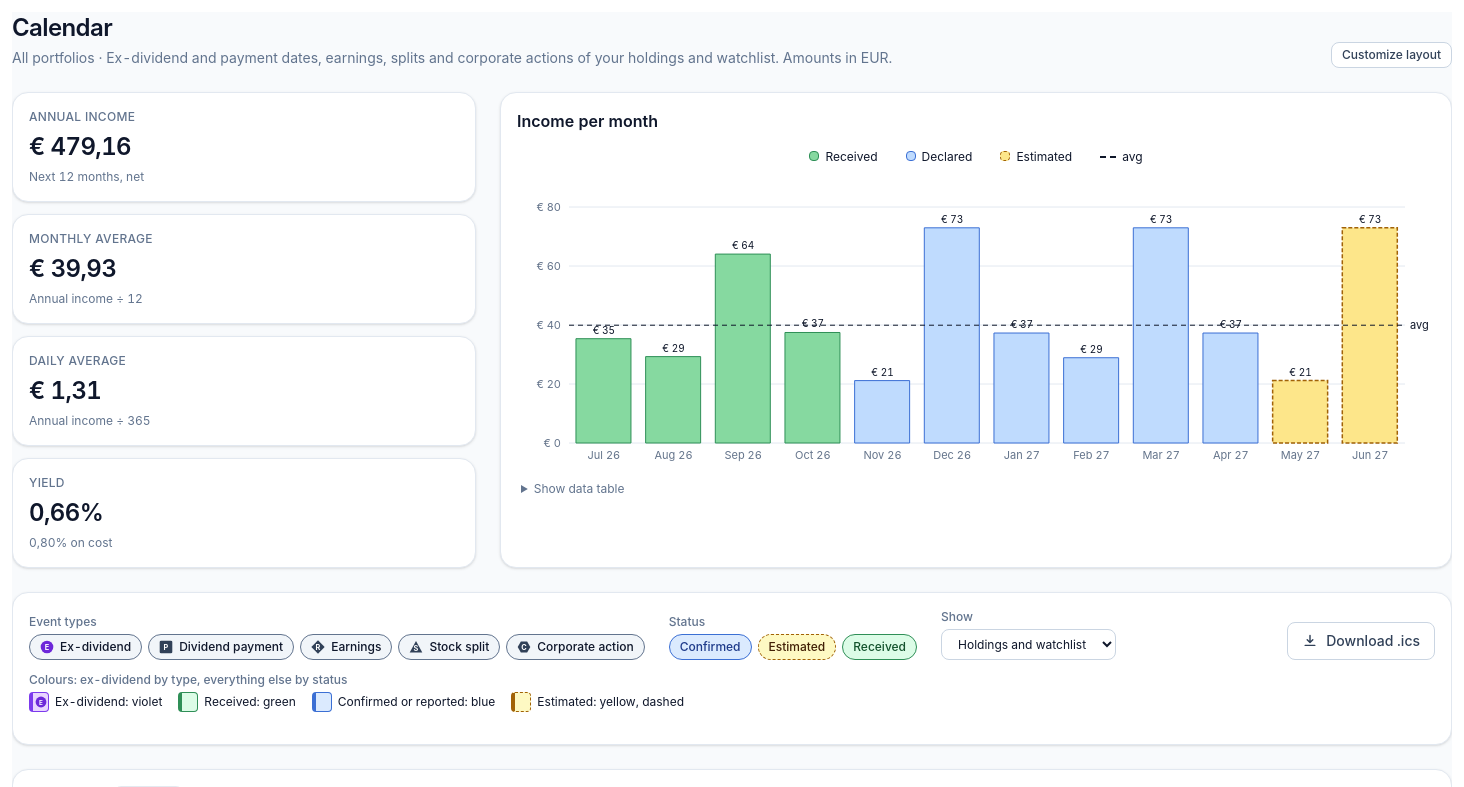
Test: CalendarPage › explains an empty selection
Click the checkbox labelled "Ex-dividend" at (86, 647), box 29,634 -> 142,660
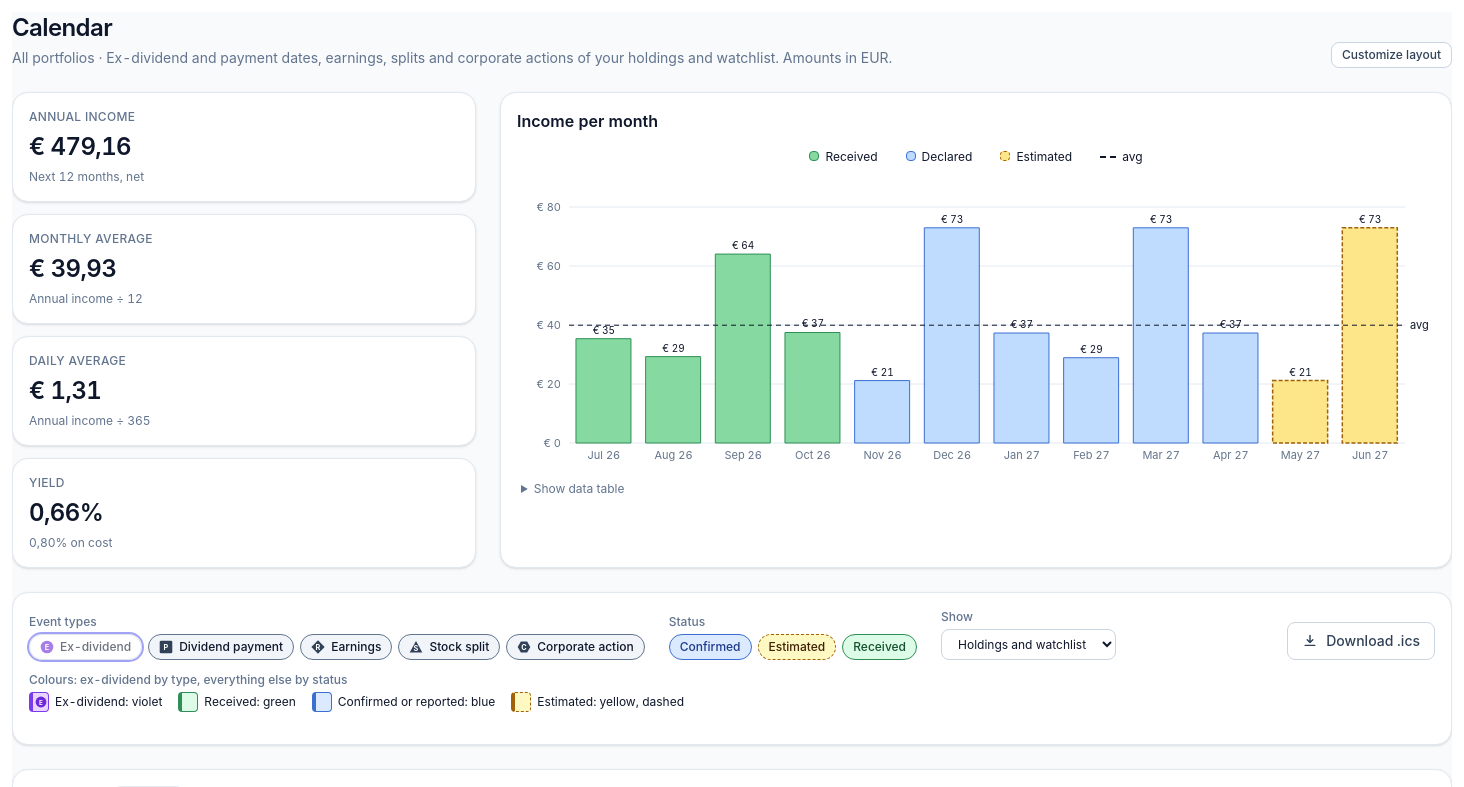
Click the checkbox labelled "Dividend payment" at (221, 647), box 148,634 -> 294,660
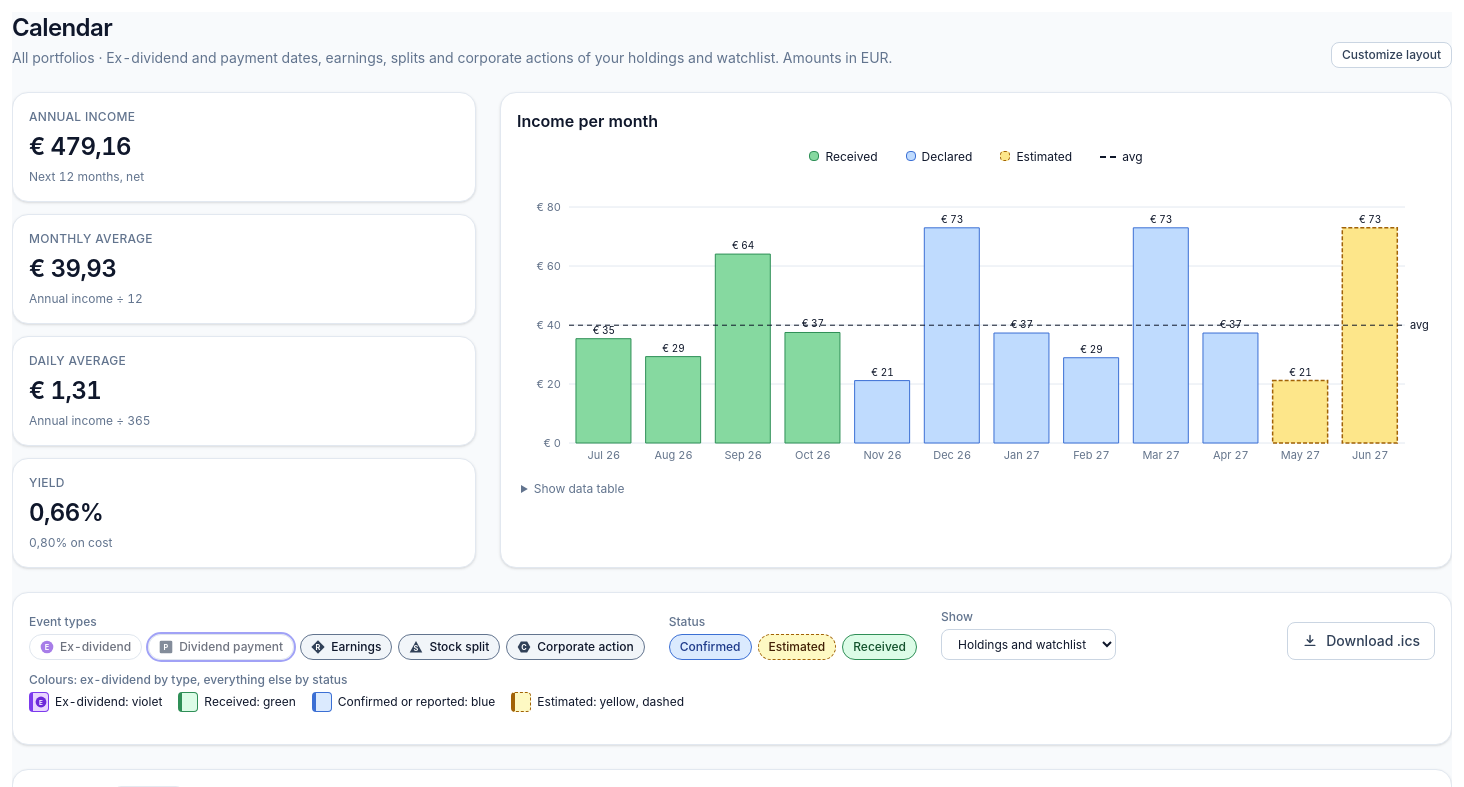
Click the checkbox labelled "Earnings" at (346, 647), box 300,634 -> 392,660
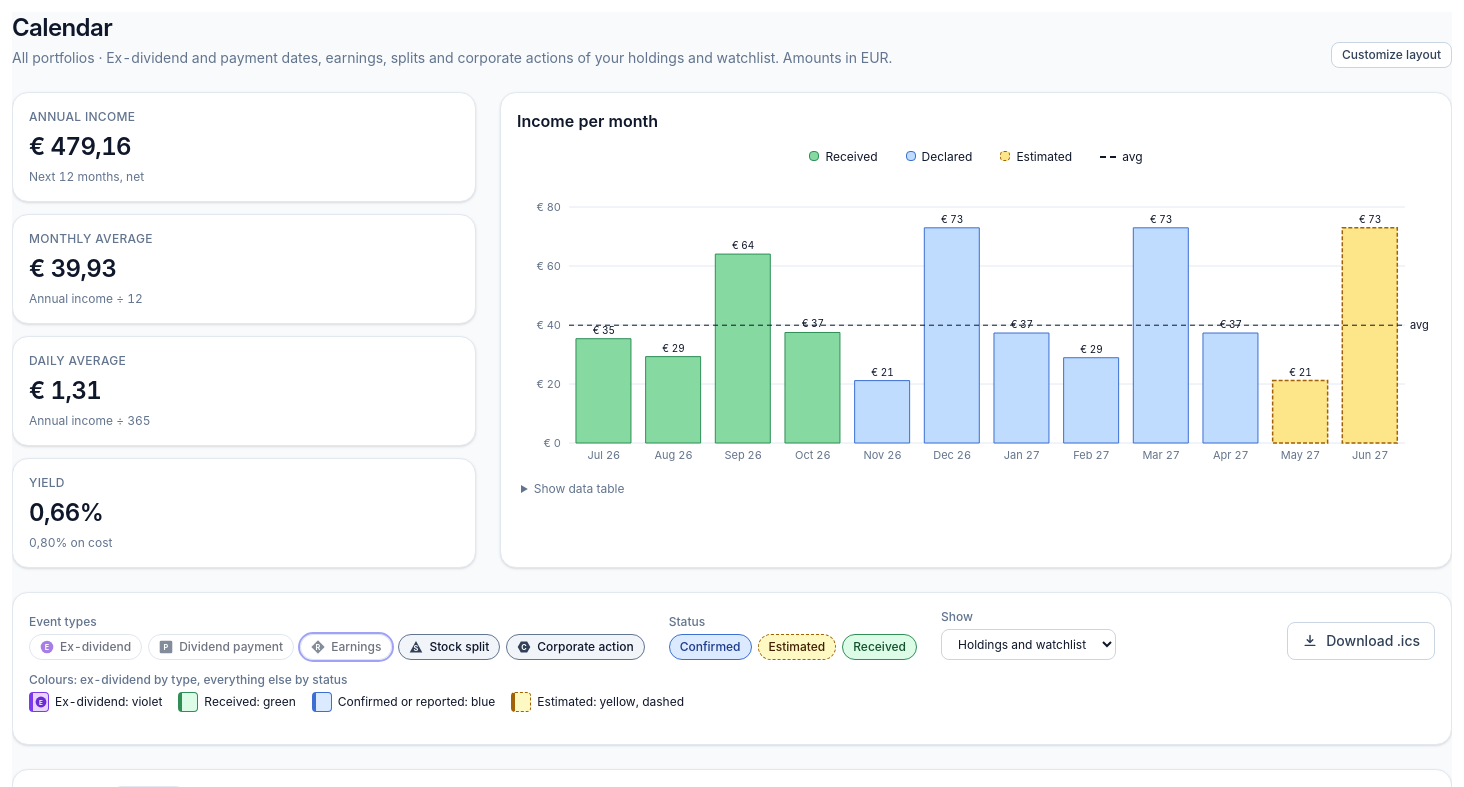
Click the checkbox labelled "Stock split" at (449, 647), box 398,634 -> 500,660
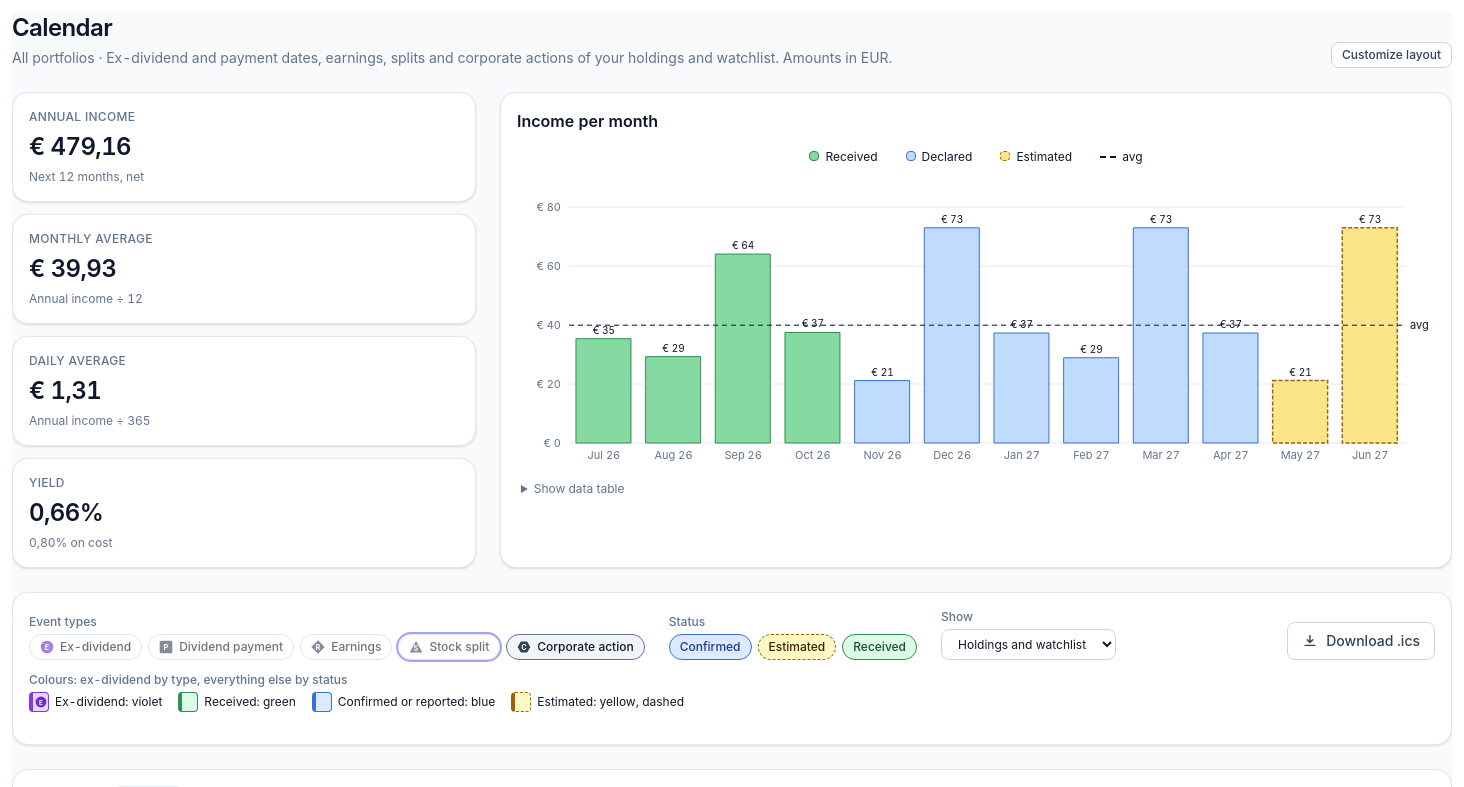
Click the checkbox labelled "Corporate action" at (575, 647), box 506,634 -> 645,660
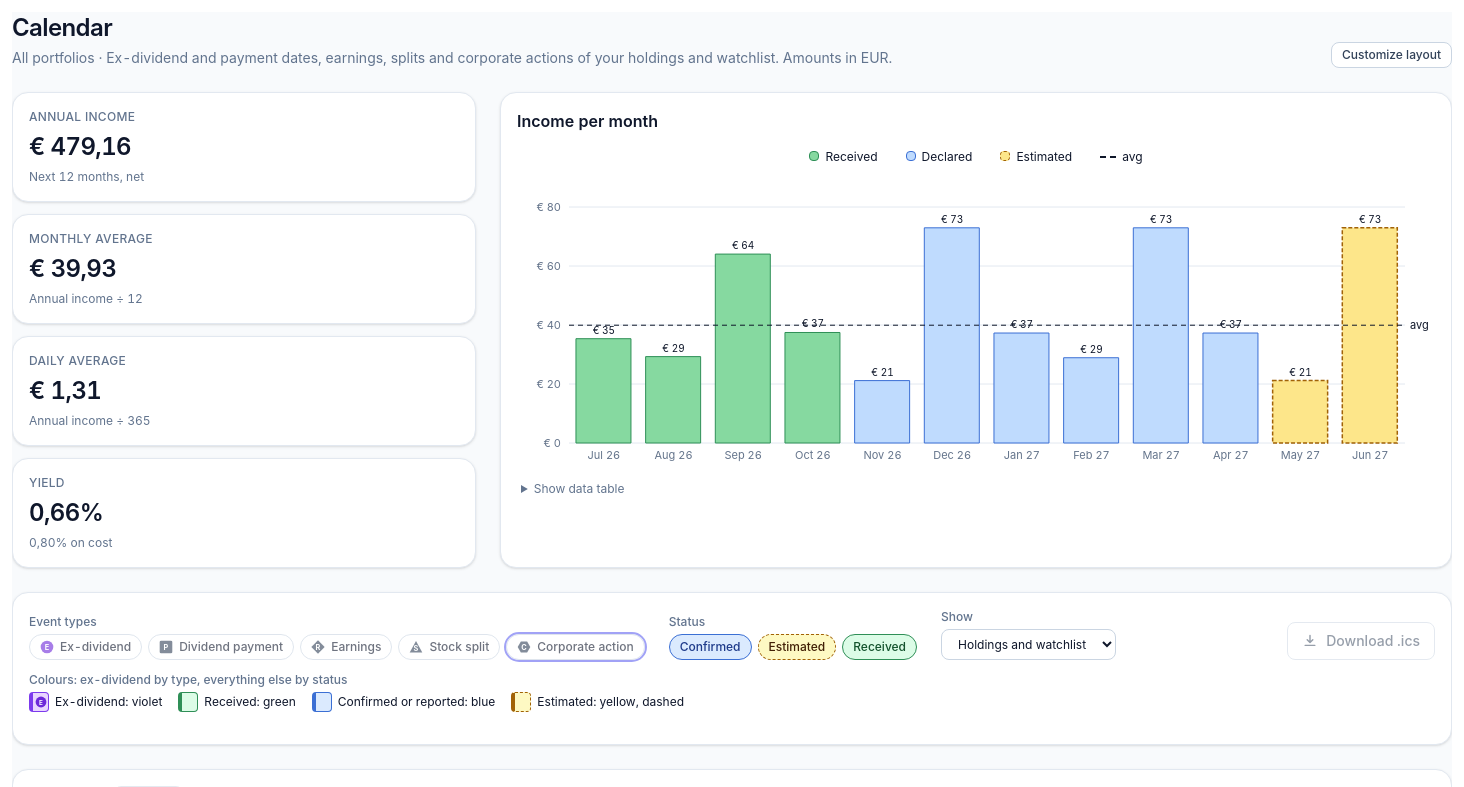
Check: the button "Download .ics" is disabled, box 1287,622 -> 1435,660
